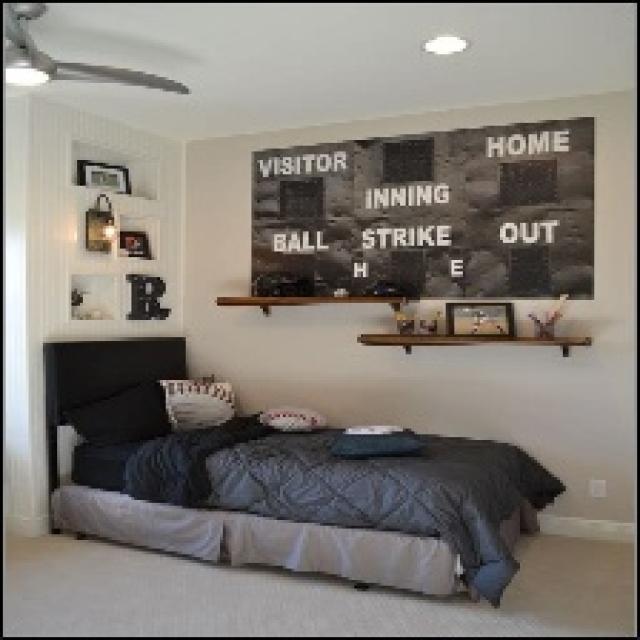Bed: (40, 334, 563, 606)
